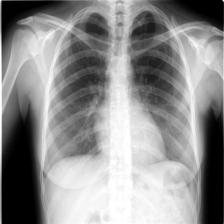tuberculosis: (40, 4, 200, 190)
